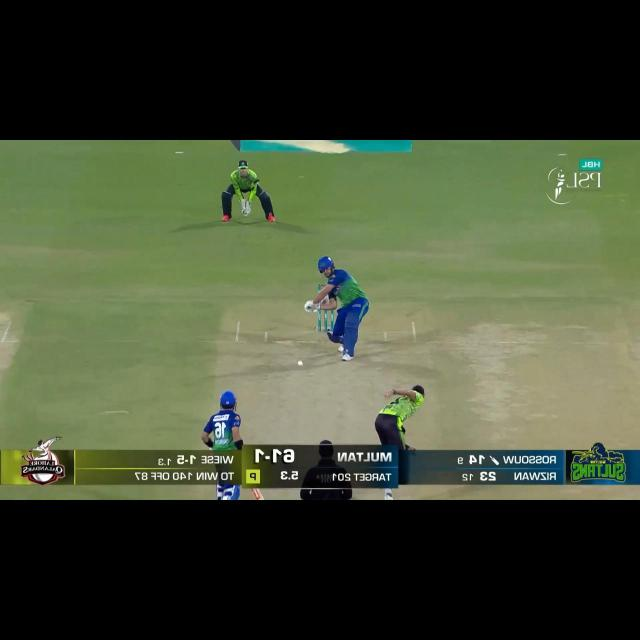bat: (306, 303, 315, 310)
toe: (251, 486, 264, 500)
